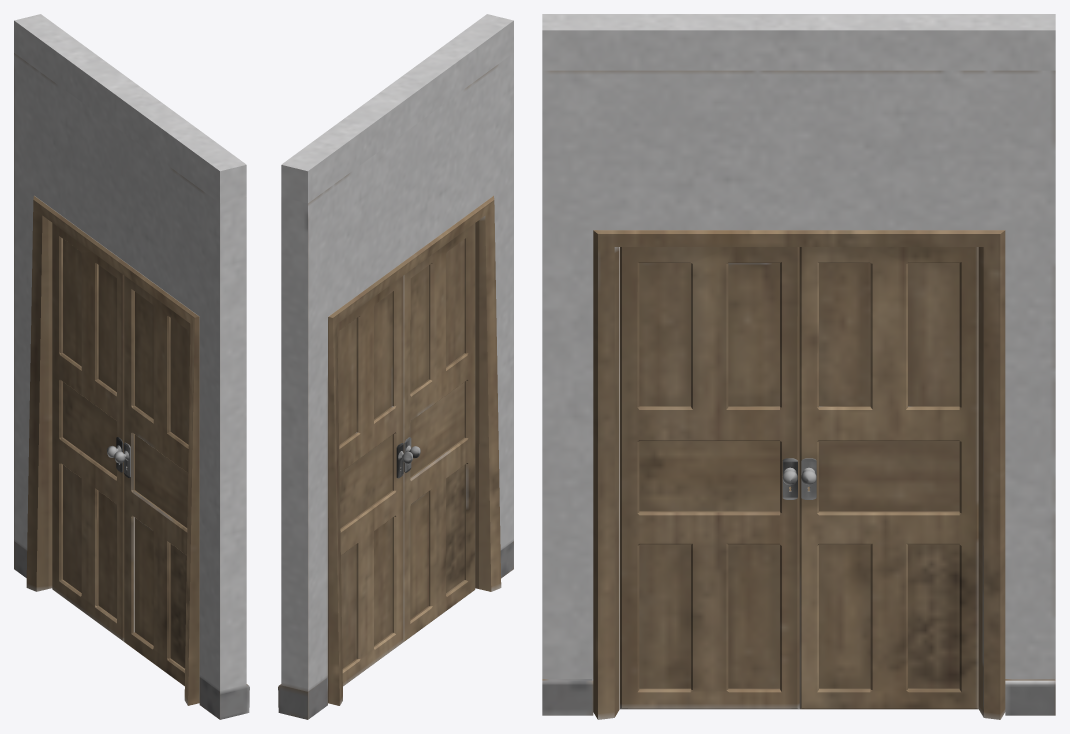
File: fbx_Modular_Wall_Door_2m.fbx
The picture shows the model from 3 angles, left to right: view 1: azimuth 30°, elevation 25°; view 2: azimuth 150°, elevation 25°; view 3: azimuth 270°, elevation 25°; orthographic projection. The views are drawn at different scales.
Visible parts, largest first — view 1: pCube1104, pCube962, pCube961, pCube963; view 2: pCube1104, pCube961, pCube962, pCube963; view 3: pCube1104, pCube962, pCube961, pCube963.
Part boxes in pixels (<box>): pCube1104: <box>14,14,249,719</box>; pCube962: <box>52,223,124,641</box>; pCube961: <box>124,275,190,686</box>; pCube963: <box>26,195,199,705</box>; pCube1104: <box>278,14,513,719</box>; pCube961: <box>403,223,475,642</box>; pCube962: <box>337,276,403,686</box>; pCube963: <box>328,195,501,705</box>; pCube1104: <box>542,14,1055,715</box>; pCube962: <box>799,247,978,709</box>; pCube961: <box>620,247,799,709</box>; pCube963: <box>593,230,1005,719</box>.
Bounding box in the file's own units: 0.2595 × 2.94 × 2.
3 materials, 3 textured.
